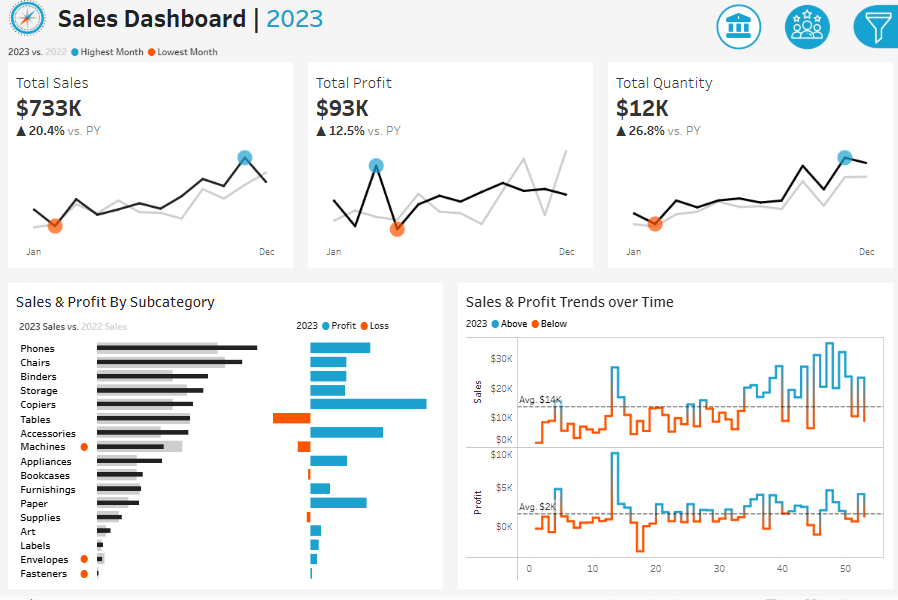

Layout of this report page (visuals, bound fields, positions):
{"tool":"tableau","page":{"name":"Sales Dashboard","canvas":[1200,800],"ordinal":1},"visuals":[{"type":"image","param":"Image/Icon - Logo.png","box":[0,0,73,59]},{"type":"text","box":[73,0,820,59]},{"type":"dashboard-object","box":[940,6,91,70]},{"type":"dashboard-object","box":[1031,6,91,70]},{"type":"blank","box":[952,10,237,86]},{"type":"worksheet","title":"Legend KPI","mark":"Automatic","box":[0,59,1200,29]},{"type":"worksheet","title":"KPI Sales","mark":"Automatic","rows":["Calculation_721701895347843083"],"cols":["Order Date"],"box":[0,88,400,284]},{"type":"worksheet","title":"KPI Profit","mark":"Automatic","rows":["Min/Max Sales (copy)_237846410425847814"],"cols":["Order Date"],"box":[400,88,400,284]},{"type":"worksheet","title":"KPI Quantity","mark":"Automatic","rows":["Min/Max Sales (copy) (copy)_237846410425856007"],"cols":["Order Date"],"box":[800,88,400,284]},{"type":"text","box":[952,96,237,37]},{"type":"parameter","param":"[Parameters].[Parameter 1]","box":[952,133,237,55]},{"type":"text","box":[952,188,237,32]},{"type":"filter","title":"KPI Sales","param":"[federated.1kpxa041aiai2y1cl4pui1t4eju9].[none:Category:nk]","box":[952,220,237,57]},{"type":"filter","title":"KPI Sales","param":"[federated.1kpxa041aiai2y1cl4pui1t4eju9].[none:Sub-Category:nk]","box":[952,277,237,57]},{"type":"blank","box":[952,334,237,60]},{"type":"text","box":[17,389,566,34]},{"type":"text","box":[617,389,566,34]},{"type":"text","box":[952,394,237,32]},{"type":"worksheet","title":"Legend Subcategory","mark":"Automatic","box":[17,423,374,32]},{"type":"text","box":[391,423,192,32]},{"type":"text","box":[617,423,566,25]},{"type":"filter","title":"KPI Sales","param":"[federated.1kpxa041aiai2y1cl4pui1t4eju9].[none:Region:nk]","box":[952,426,237,57]},{"type":"worksheet","title":"Weekly Trends","mark":"Automatic","rows":["Calculation_721701895334993921","CY Sales (copy)_237846410424180736"],"cols":["Order Date"],"box":[617,448,566,335]},{"type":"worksheet","title":"Subcategory Comparison","mark":"Bar","rows":["Sub-Category","Calculation_2435040078806671369"],"cols":["CY Sales (copy)_721701895335804930","Calculation_721701895334993921","CY Sales (copy)_237846410424180736"],"box":[17,455,566,327.9]},{"type":"filter","title":"KPI Sales","param":"[federated.1kpxa041aiai2y1cl4pui1t4eju9].[none:State:nk]","box":[952,483,237,57]},{"type":"filter","title":"KPI Sales","param":"[federated.1kpxa041aiai2y1cl4pui1t4eju9].[none:City:nk]","box":[952,540,237,57]}]}

Visuals, with their boxes in screenshot pixels (x1, y1, x2, y2), scaled from the page's 1200x800 canvas onto the 898x600 screenshot:
image: 0/0/55/44
text: 55/0/668/44
dashboard-object: 703/4/772/57
dashboard-object: 772/4/840/57
blank: 712/8/890/72
"Legend KPI" worksheet: 0/44/897/66
"KPI Sales" worksheet: 0/66/299/279
"KPI Profit" worksheet: 299/66/599/279
"KPI Quantity" worksheet: 599/66/897/279
text: 712/72/890/100
parameter: 712/100/890/141
text: 712/141/890/165
"KPI Sales" filter: 712/165/890/208
"KPI Sales" filter: 712/208/890/250
blank: 712/250/890/296
text: 13/292/436/317
text: 462/292/885/317
text: 712/296/890/320
"Legend Subcategory" worksheet: 13/317/293/341
text: 293/317/436/341
text: 462/317/885/336
"KPI Sales" filter: 712/320/890/362
"Weekly Trends" worksheet: 462/336/885/587
"Subcategory Comparison" worksheet (Bar marks): 13/341/436/587
"KPI Sales" filter: 712/362/890/405
"KPI Sales" filter: 712/405/890/448
